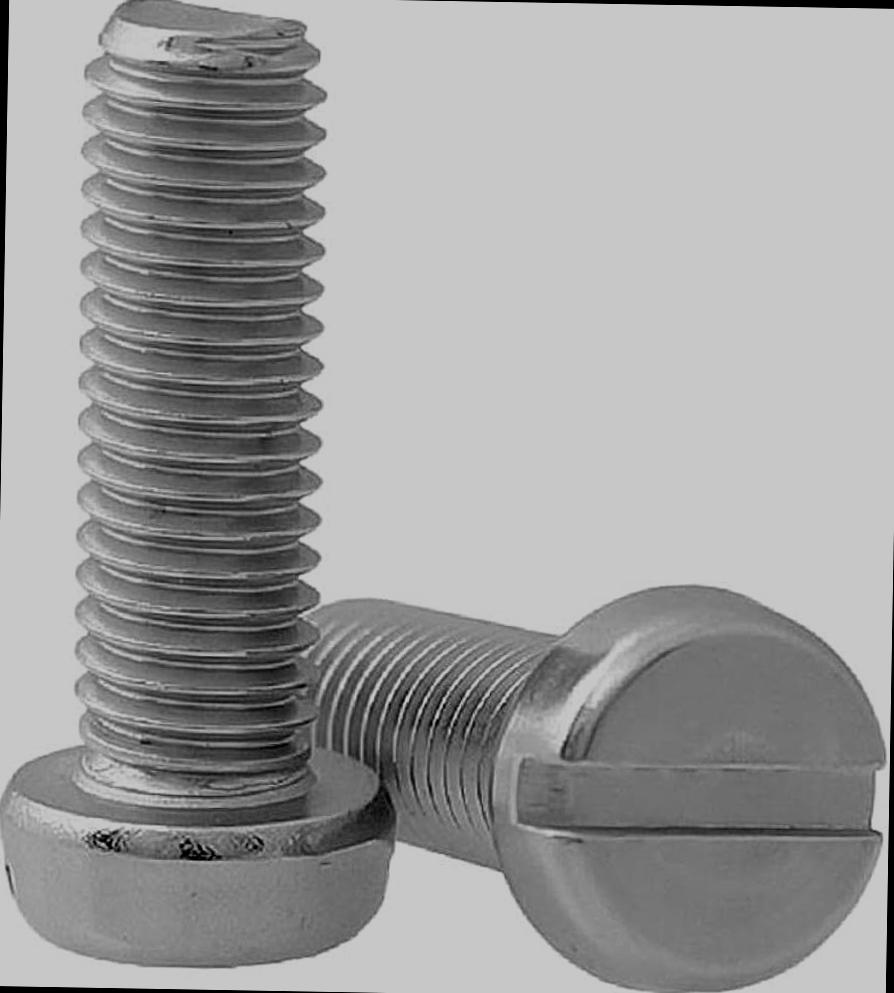screw: (496, 580, 884, 988)
